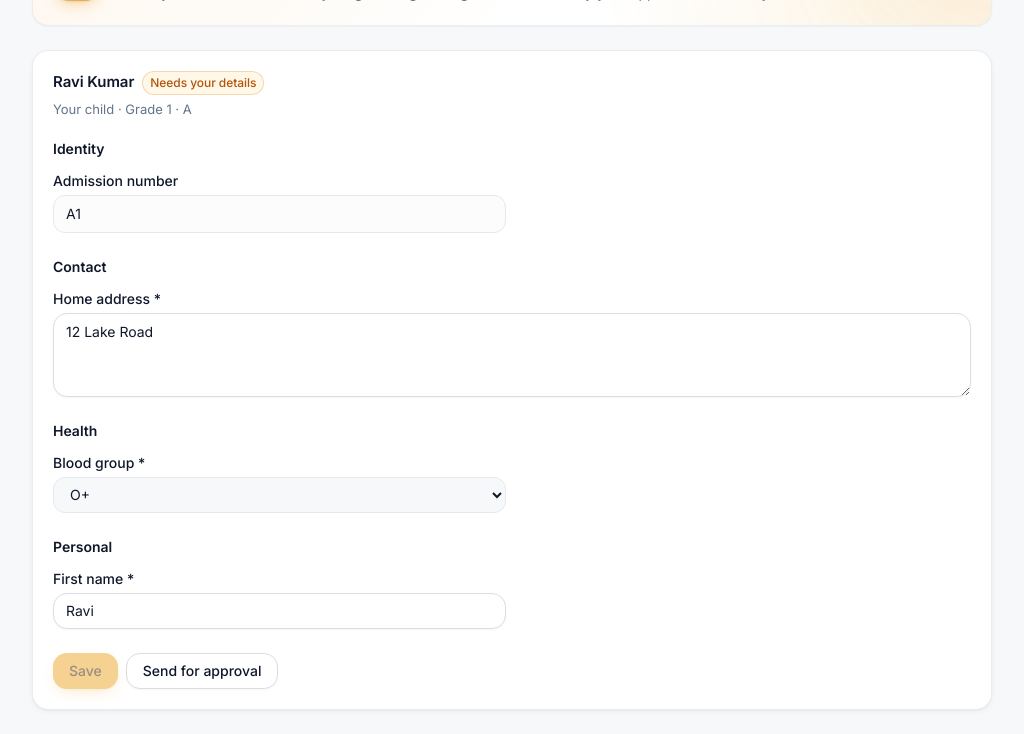
My profile › submits a complete profile and then shows it locked for review
This screenshot has width=1024, height=734.
(page scrolled)
Click the button "Send for approval".
click(202, 670)  # box [126, 652, 278, 688]
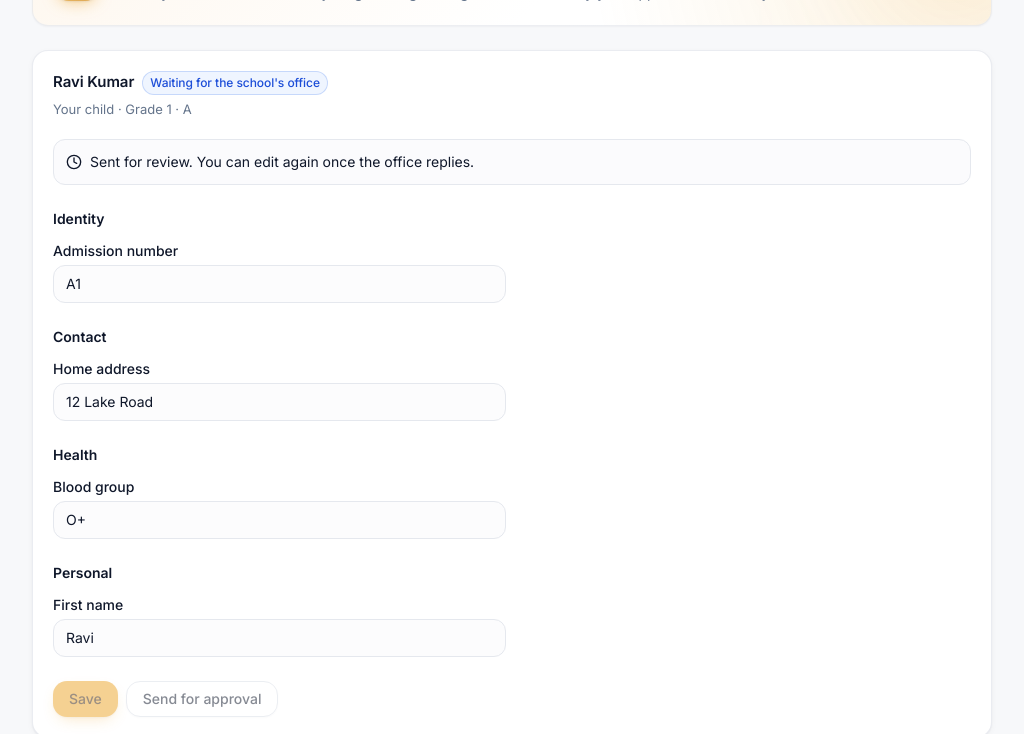
expect the button "Save" is disabled: met, box [53, 680, 118, 716]
expect the text "Sent for review. You can edit again once the office replies." is shown: met, box [53, 138, 971, 184]
